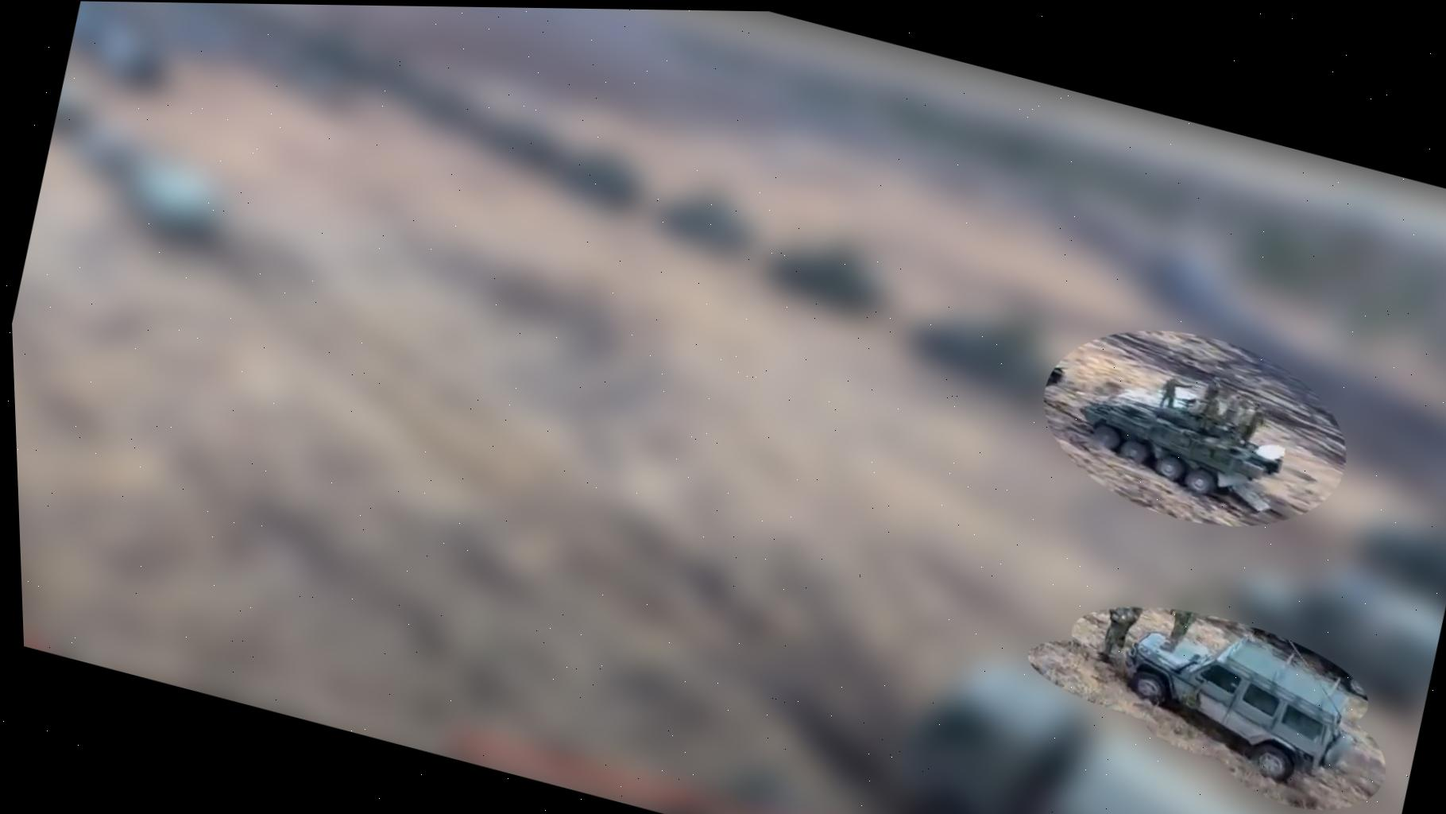armored_car: (1102, 610, 1371, 797), (1064, 357, 1299, 523)
